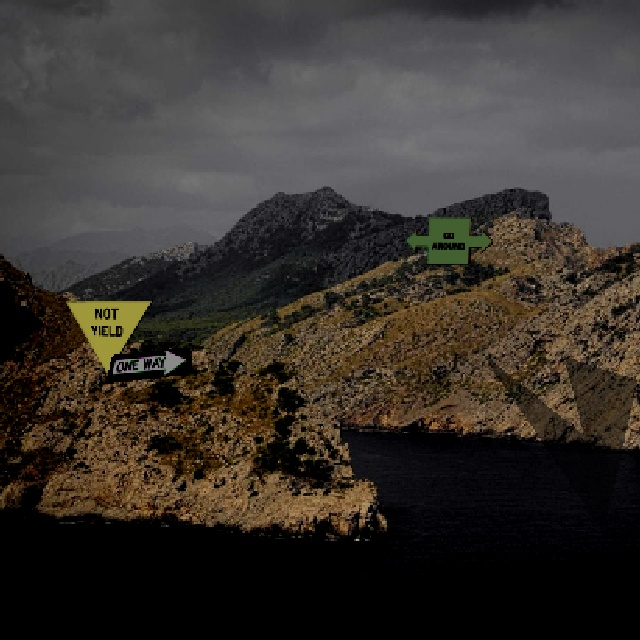GO_AROUND: (403, 215, 492, 264)
NOT_YIELD: (63, 298, 152, 374)
ONE_WAY_ right: (103, 345, 192, 382)
